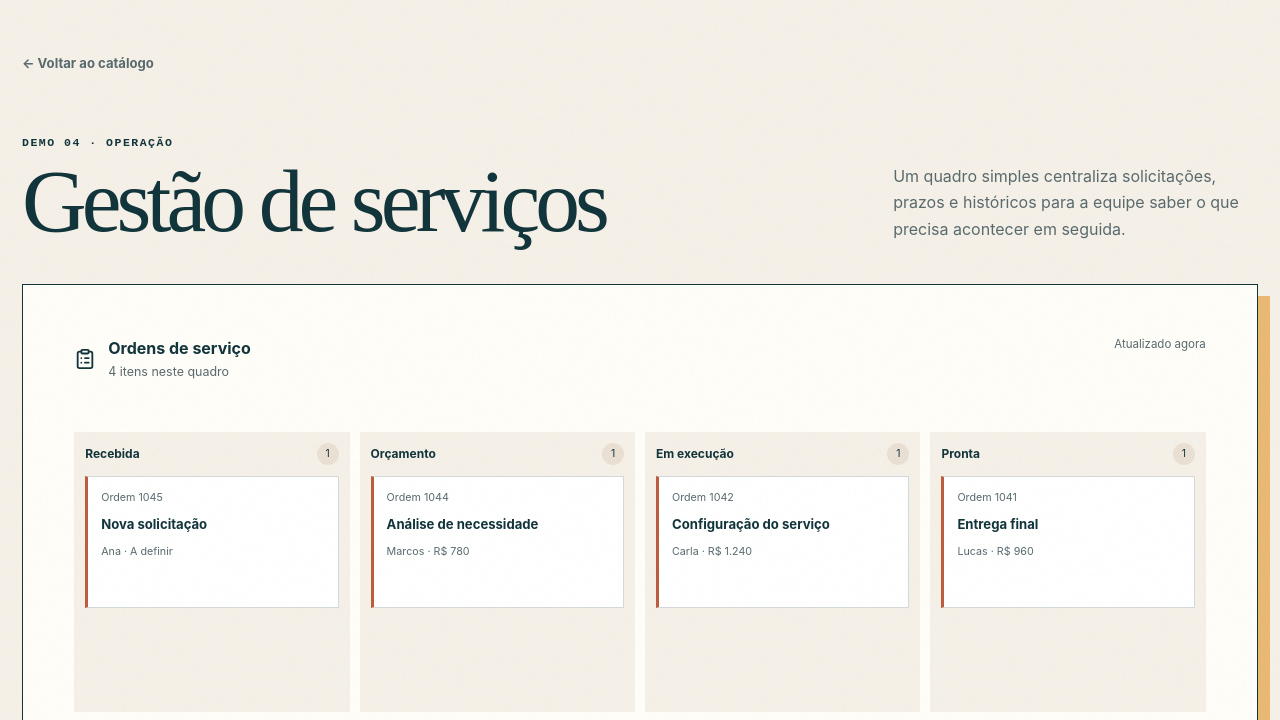
Test case: ManagementDemoPage › abre os detalhes da ordem selecionada
The width and height of the screenshot is (1280, 720).
Click the button "Ordem 1042 Configuração do serviço Carla · R$ 1.240": (783, 542) [656,476,909,608]
(page scrolled)
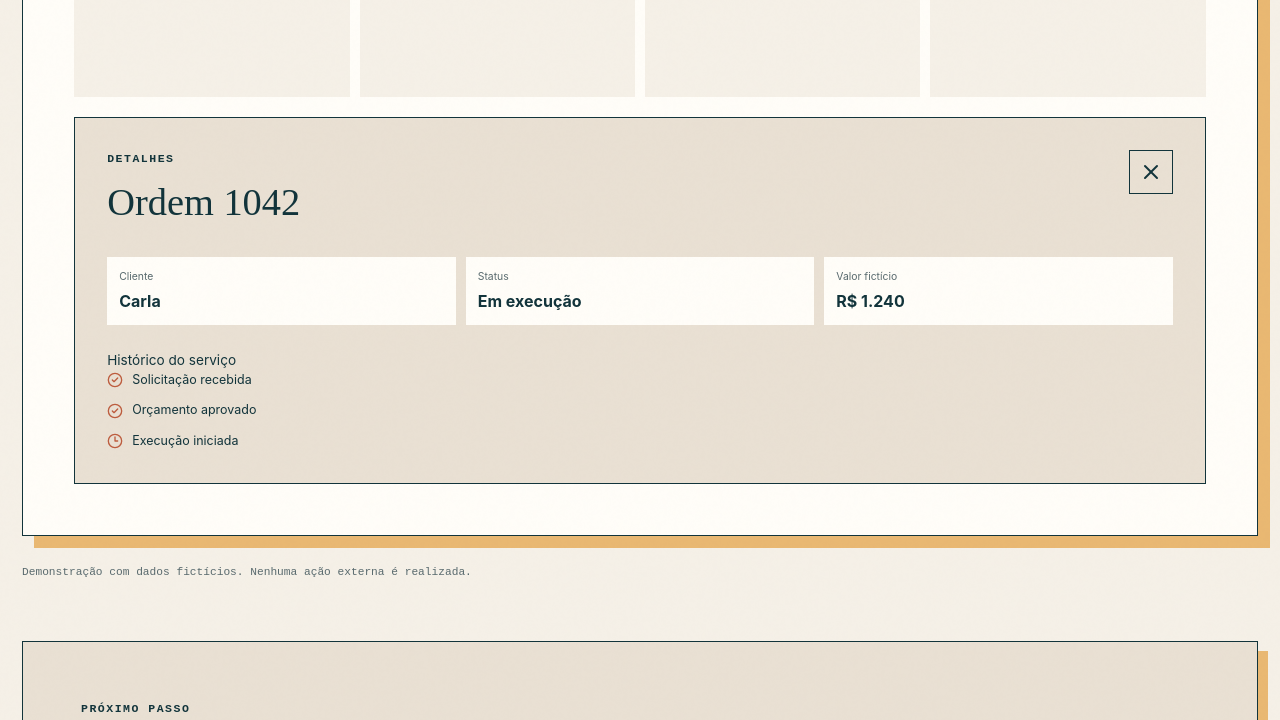
Check: the heading "Ordem 1042" is shown, box [107,174,300,232]
Check: the heading "Histórico do serviço" is shown, box [107,352,236,368]
